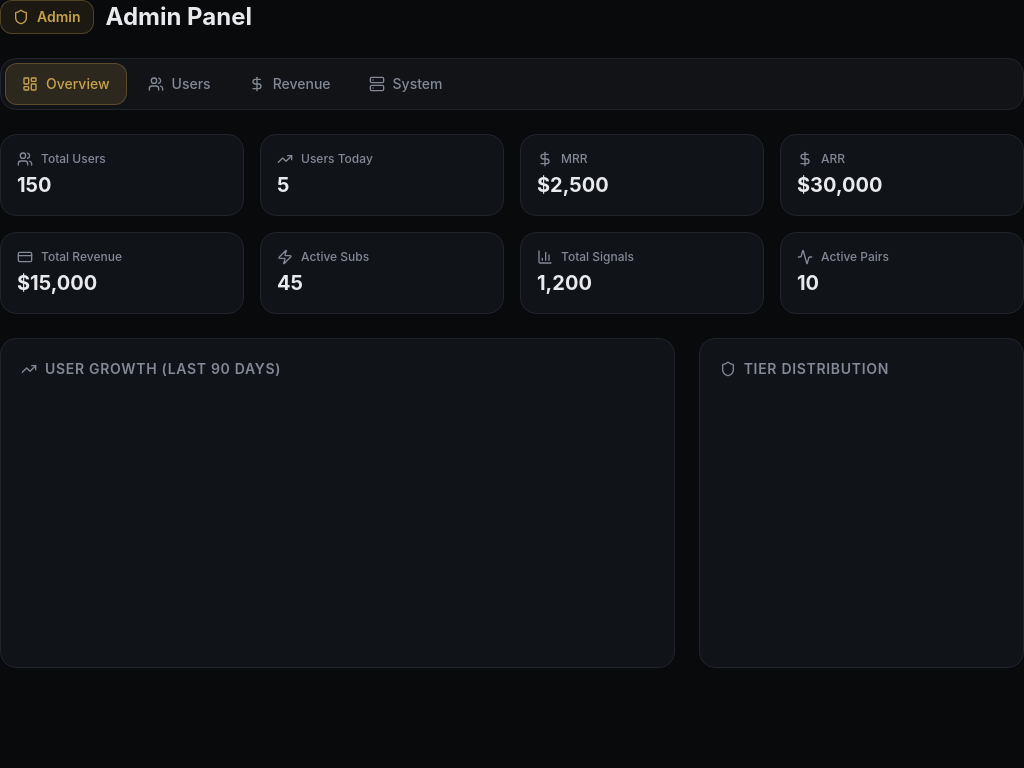
Scenario: Admin Panel - Tab Navigation › clicking Revenue tab switches content
Click the button "Revenue" at (290, 84), box [232, 63, 348, 105]
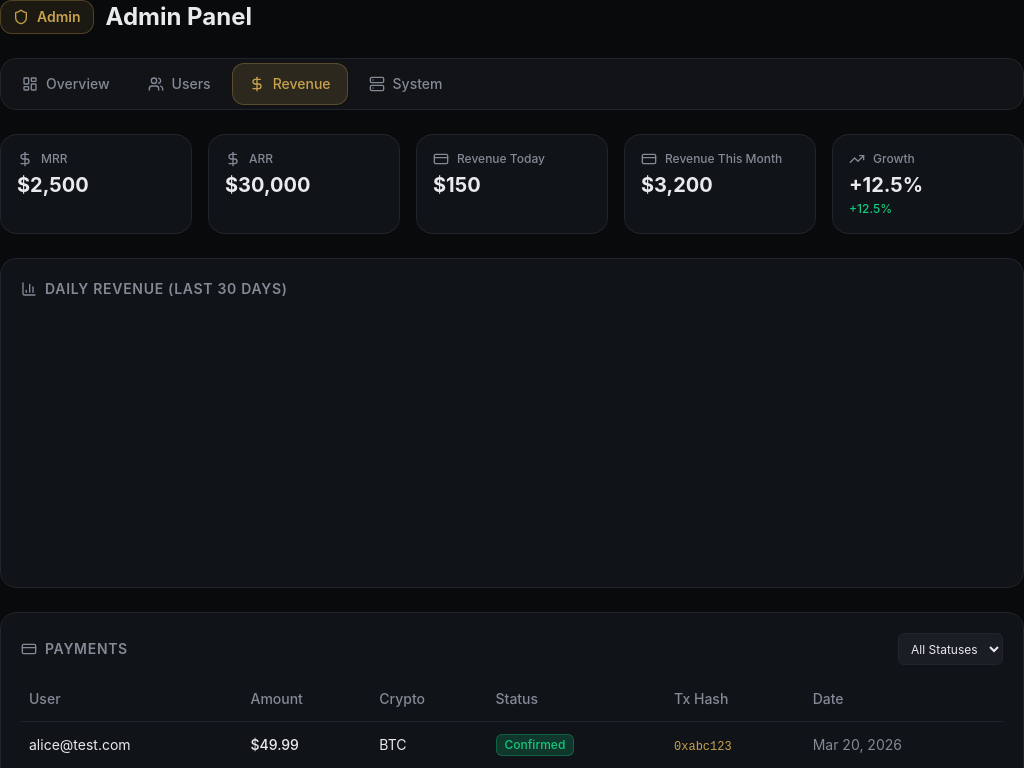
Expected: the heading "Payments" is shown, [21, 639, 128, 659]
